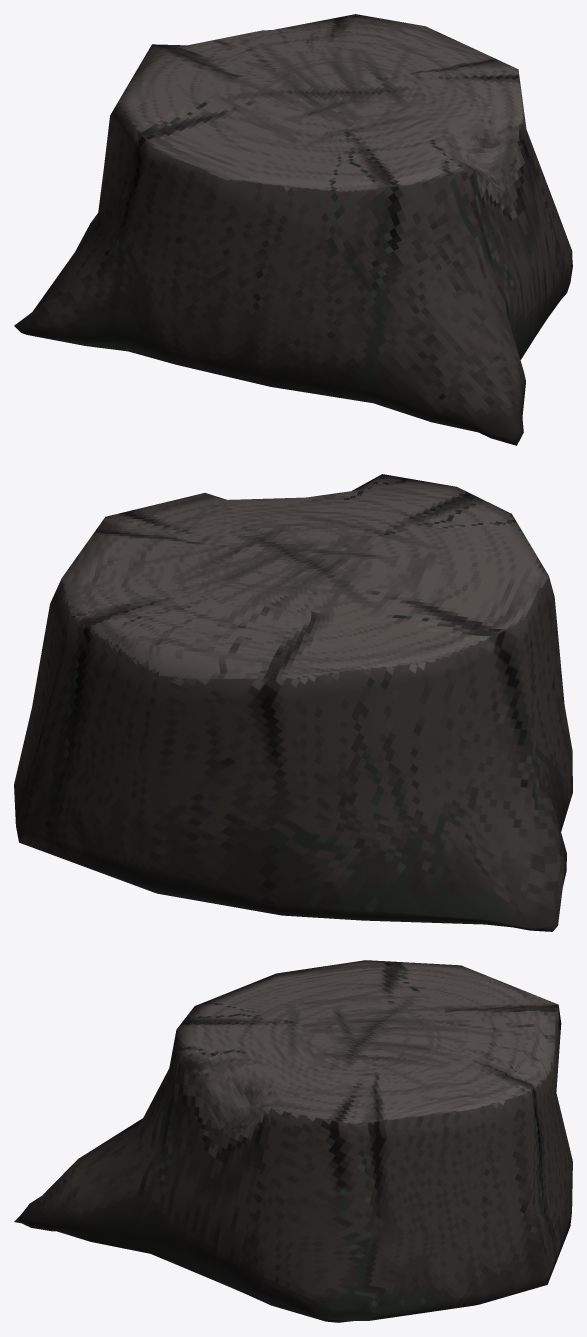
Rendered from treestump.fbx.
The picture shows the model from 3 angles, top to bottom: view 1: azimuth 30°, elevation 25°; view 2: azimuth 150°, elevation 25°; view 3: azimuth 270°, elevation 25°; orthographic projection. The views are drawn at different scales.
Visible parts, largest first — view 1: treebark; view 2: treebark; view 3: treebark.
Boxes of the visible parts, x1,y1,x2,y2 form: treebark: (14,14,572,445); treebark: (14,474,572,931); treebark: (14,960,572,1322).
Bounding box in the file's own units: 4.34 × 1.89 × 4.71.
